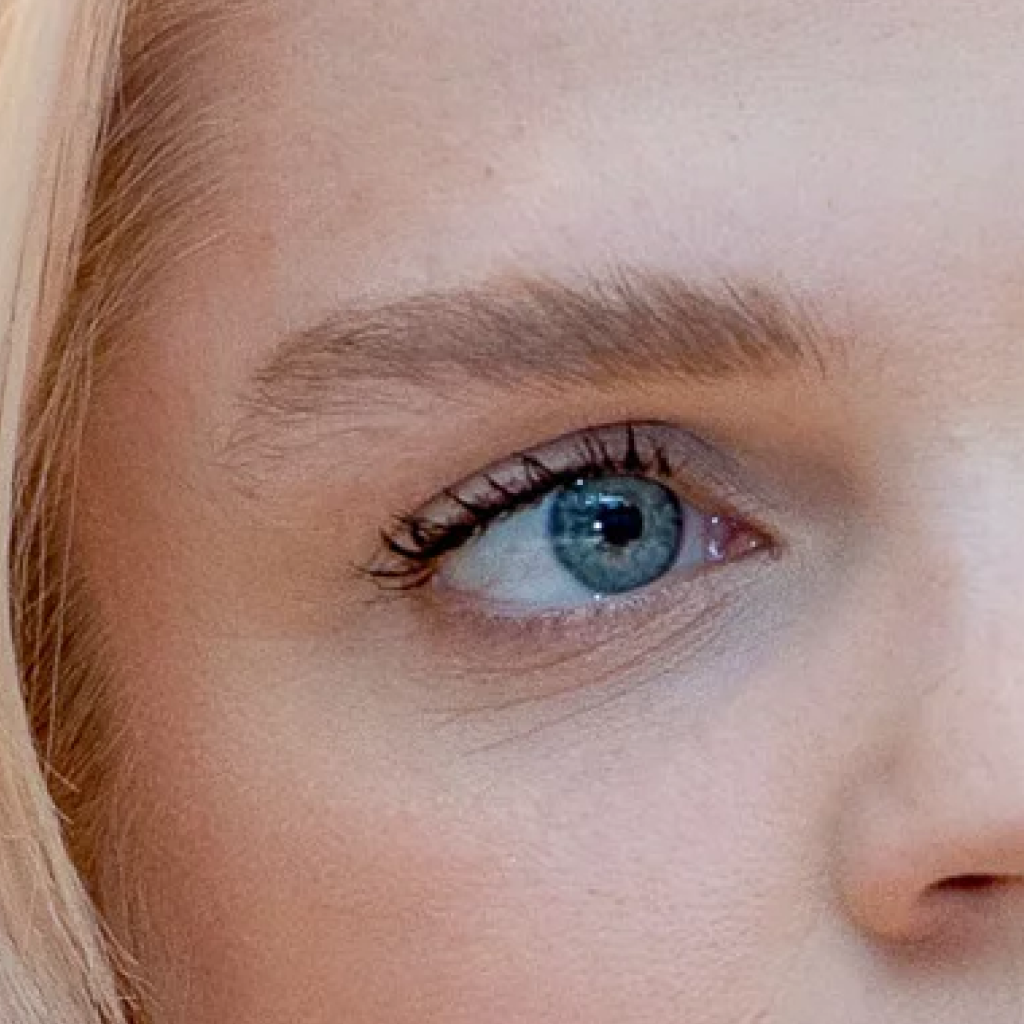iris: (548, 473, 679, 591)
pupil: (603, 505, 642, 547)
sclera: (448, 493, 594, 602), (679, 504, 705, 567)
